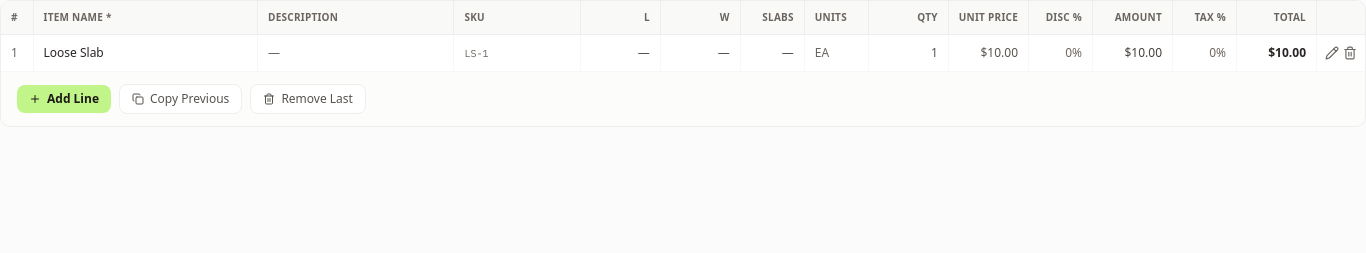
Scenario: Quote items table — adding a kit › puts later lines of the same document after the kit, without a heading of their own
Click the button "Add Line" at point(64, 99), box x1=17 y1=85 x2=111 y2=113
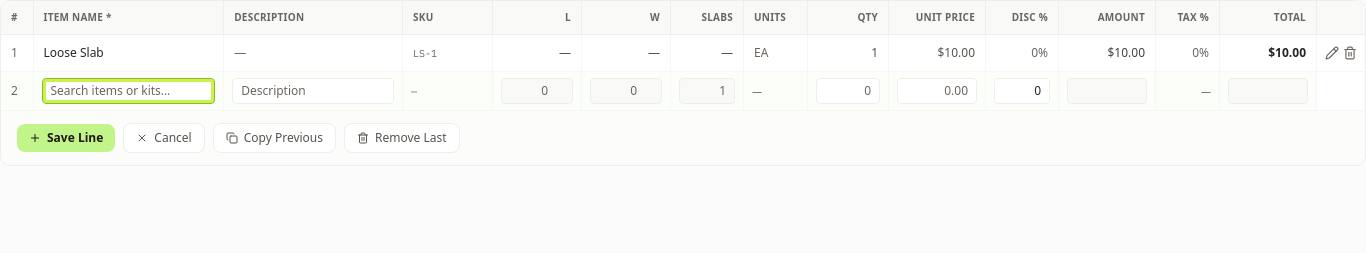
Type "Kitch" into the dropdown named "Item Name" at point(128, 91), box x1=42 y1=78 x2=215 y2=104
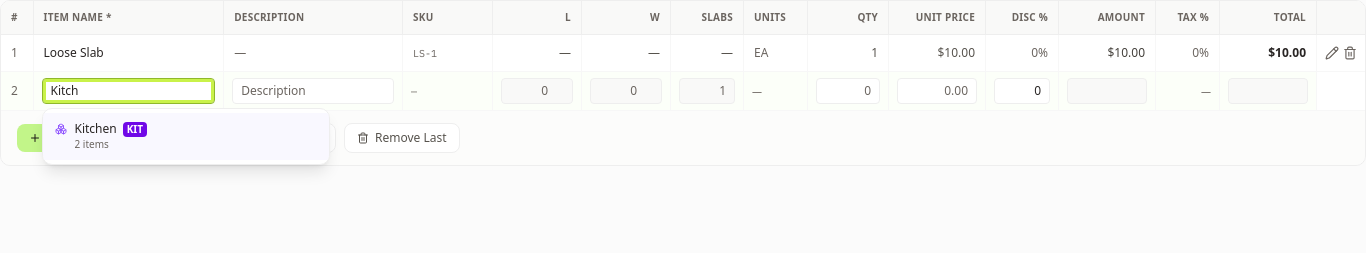
Click the option "Kitchen KIT 2 items" at point(96, 129), box x1=42 y1=113 x2=328 y2=160
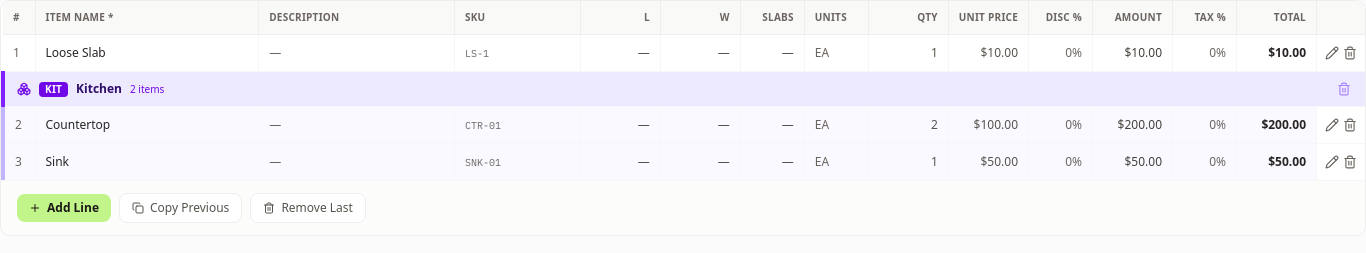
Check: the number of rows "Kit Kitchen 2 items" is 1, box x1=3 y1=72 x2=1365 y2=107
